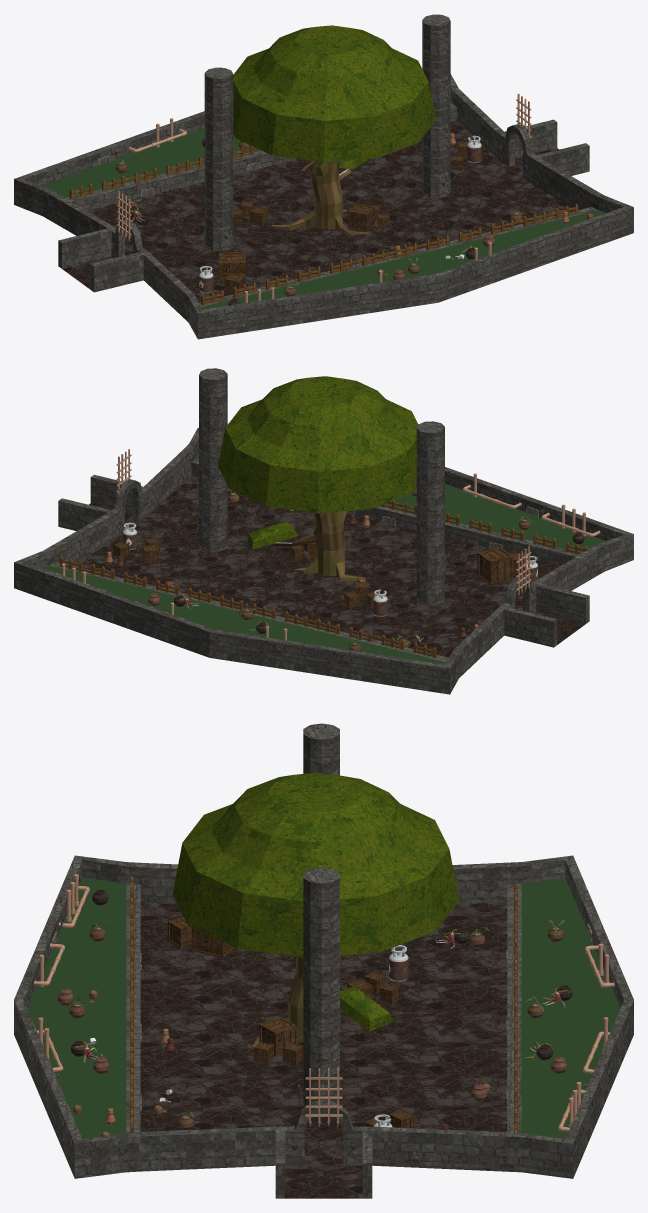
Rendered from room_base_I_garden_40x40.glb.
The picture shows the model from 3 angles, top to bottom: view 1: azimuth 30°, elevation 25°; view 2: azimuth 150°, elevation 25°; view 3: azimuth 270°, elevation 25°; orthographic projection. The views are drawn at different scales.
Parts seen in each view (by area): view 1: Plane.001, floor, tree, Cylinder.043, Cube.001, Cube.002, Cylinder.029, dzban_burok_4.002, gate.001, floor.002; view 2: Plane.001, floor, tree, Cylinder.043, Cube.002, Cube.001, Cylinder.029, Cube.016_cell.003, floor.002, dzban_burok_4.002, gate.001; view 3: Plane.001, floor, tree, Cylinder.043, Cylinder.029, floor.001, dzban_burok_4.002, Cube.001, Cube.002, gate.003, dzban_duzy_2.001.
Boxes of the visible parts, x1,y1,x2,y2 form: Plane.001: [14, 74, 633, 339]; floor: [87, 120, 574, 302]; tree: [233, 25, 435, 235]; Cylinder.043: [204, 14, 450, 251]; Cube.001: [201, 203, 578, 305]; Cube.002: [69, 145, 253, 199]; Cylinder.029: [128, 118, 491, 302]; dzban_burok_4.002: [111, 140, 419, 296]; gate.001: [116, 191, 131, 241]; floor.002: [62, 257, 112, 289]; Plane.001: [14, 427, 633, 694]; floor: [73, 475, 560, 657]; tree: [218, 376, 418, 581]; Cylinder.043: [199, 368, 444, 605]; Cube.002: [59, 556, 436, 657]; Cube.001: [380, 500, 588, 554]; Cylinder.029: [55, 473, 600, 640]; Cube.016_cell.003: [484, 553, 508, 582]; floor.002: [534, 612, 585, 644]; dzban_burok_4.002: [239, 488, 532, 651]; gate.001: [516, 546, 531, 596]; Plane.001: [14, 855, 633, 1198]; floor: [140, 902, 507, 1165]; tree: [172, 772, 459, 1046]; Cylinder.043: [303, 723, 339, 1114]; Cylinder.029: [34, 874, 614, 1131]; floor.001: [285, 1165, 362, 1198]; dzban_burok_4.002: [66, 919, 564, 1018]; Cube.001: [130, 876, 133, 1132]; Cube.002: [514, 883, 517, 1132]; gate.003: [305, 1068, 342, 1126]; dzban_duzy_2.001: [71, 889, 572, 1060].
Size of the model in its own units: 40 by 14.03 by 32.
Materials: 21 (21 with a texture image).
